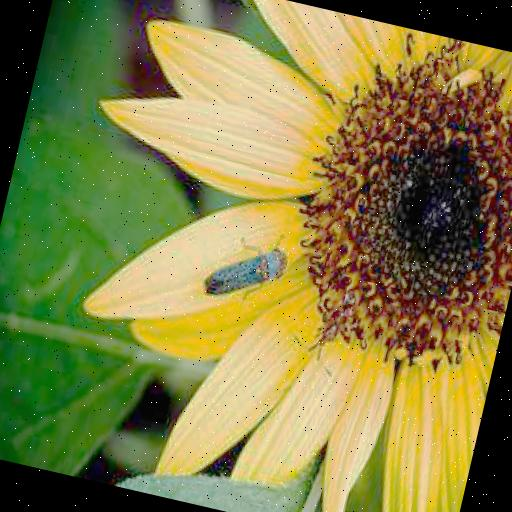sunflower: (11, 0, 512, 512)
